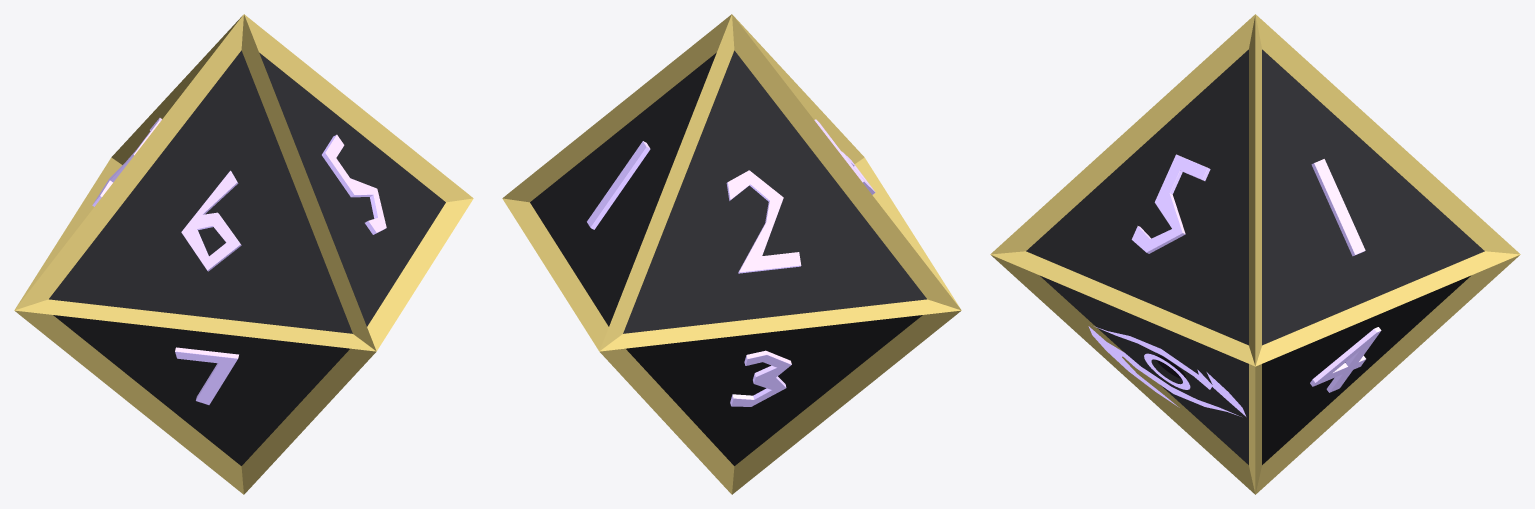
File: d8_black_hole_gold.glb
3 renders of one model, left to right at view 1: azimuth 30°, elevation 25°; view 2: azimuth 150°, elevation 25°; view 3: azimuth 270°, elevation 25°, orthographic.
Visible parts, largest first — view 1: D8_Die; view 2: D8_Die; view 3: D8_Die.
Part boxes in pixels (box(x1,y1,x2,y2)): D8_Die: box(14, 14, 473, 494); D8_Die: box(502, 14, 961, 494); D8_Die: box(990, 14, 1520, 494).
Bounding box in the file's own units: 5 × 5 × 5.
